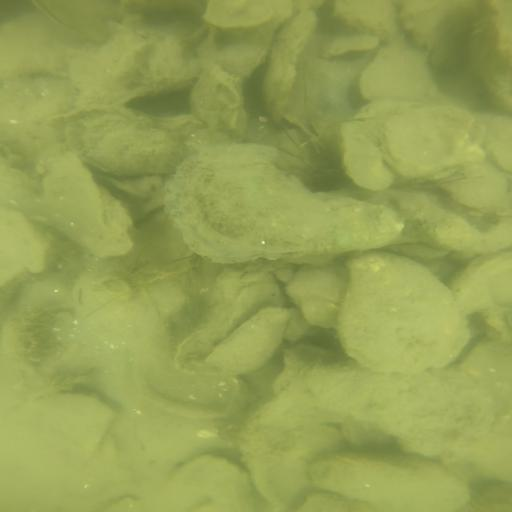Oyster-Closed: (260, 366, 512, 478), (164, 147, 400, 263), (338, 253, 466, 375), (179, 269, 290, 378), (315, 453, 483, 512), (73, 33, 199, 109), (36, 155, 132, 254), (128, 352, 248, 420), (381, 105, 480, 183), (63, 110, 181, 175), (210, 309, 286, 375), (470, 1, 512, 115), (173, 456, 257, 511), (358, 46, 435, 103), (1, 209, 45, 288), (455, 254, 510, 317), (343, 124, 392, 192), (341, 3, 406, 39), (201, 2, 281, 31), (448, 172, 507, 211)
Oyster-Open: (323, 37, 387, 65)
